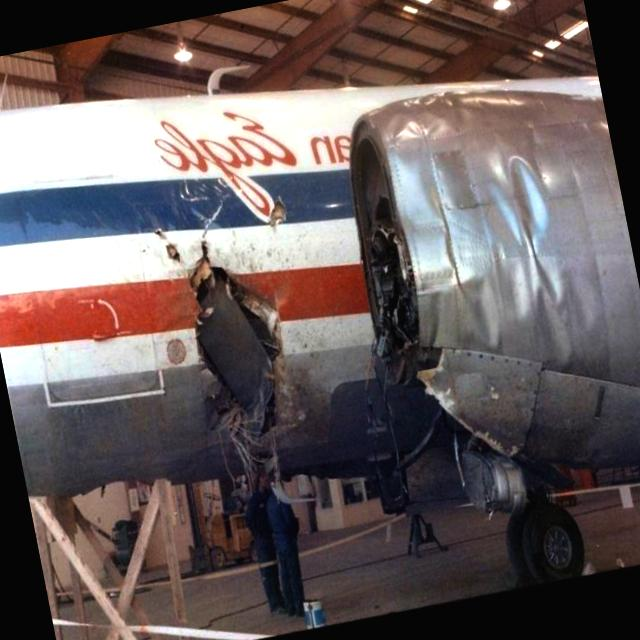dent: (392, 127, 610, 394)
